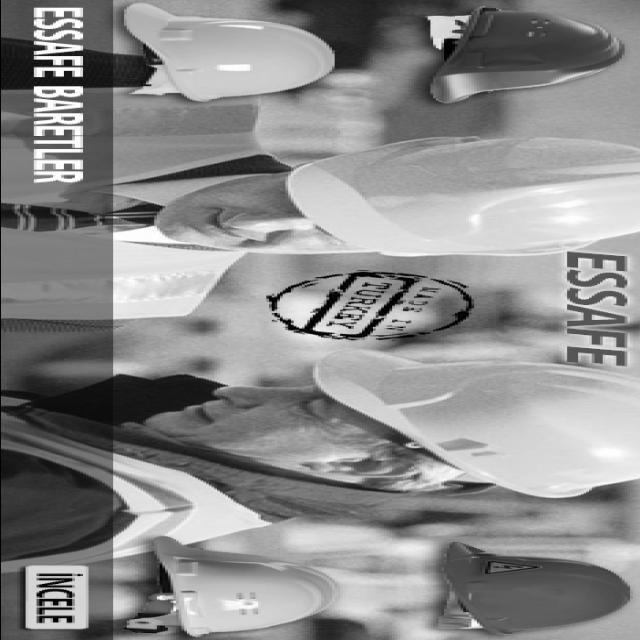safety_helmet: (167, 403, 511, 551)
